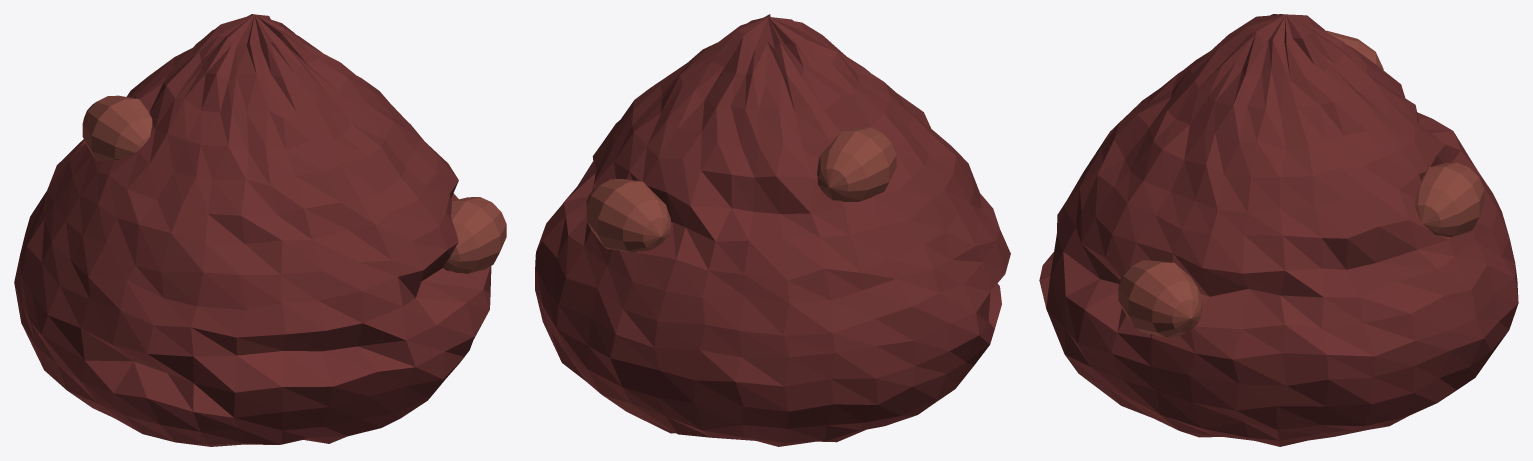
The model's file is redbean.glb.
3 views of the same model, side by side, from view 1: azimuth 30°, elevation 25°; view 2: azimuth 150°, elevation 25°; view 3: azimuth 270°, elevation 25° (orthographic).
Bounding box in the file's own units: 1 × 0.8945 × 1.
